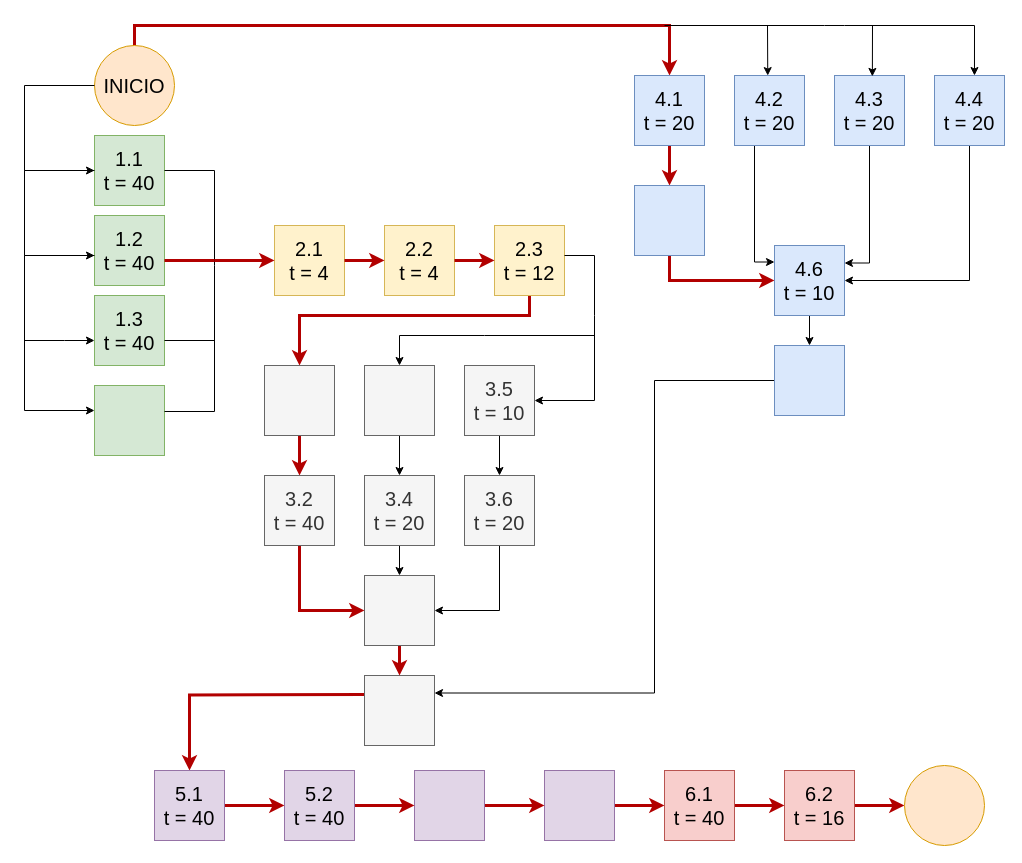
Image size: 1022x863. Some labels were removed from this diagram. Here are the shapes that lost their labels. From the top down, the centre of each, then its label:
(x=669, y=220): 4.5 t = 20
(x=299, y=400): 3.1 t = 10
(x=399, y=400): 3.3 t = 10
(x=809, y=380): 4.7 t = 10
(x=129, y=420): 1.4 t = 20
(x=399, y=610): 3.7 t = 10
(x=399, y=710): 3.8 t = 4
(x=449, y=805): 5.3 t = 10
(x=579, y=805): 5.4 t = 10
(x=944, y=805): FIN
